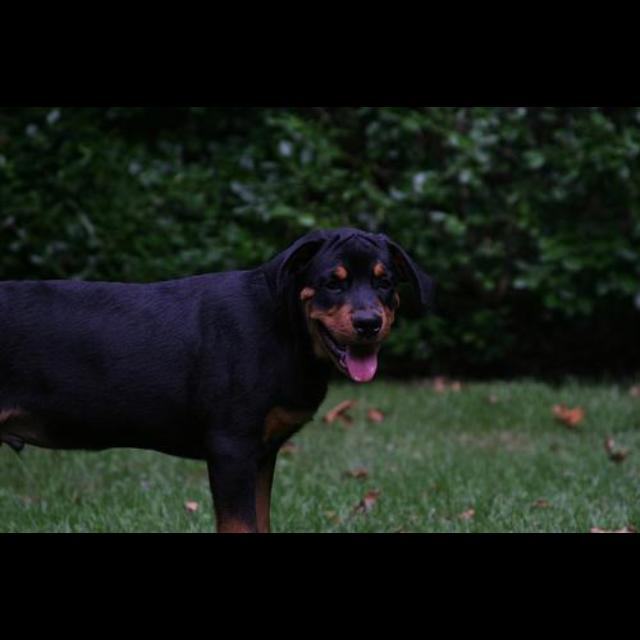rottweiler: (2, 228, 433, 533)
